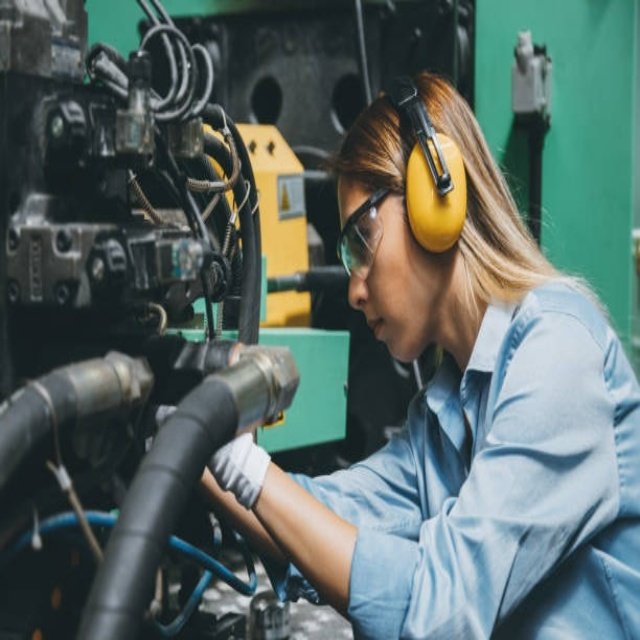Gafas: (336, 189, 399, 277)
Sin_mascara: (359, 303, 413, 362)
